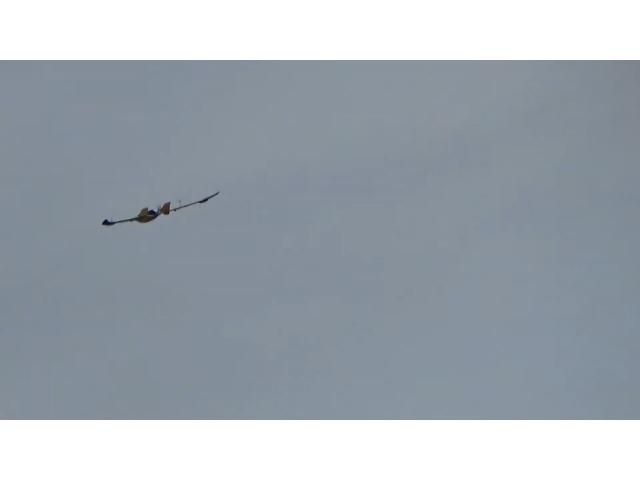Anti-Drone: (102, 193, 220, 227)
